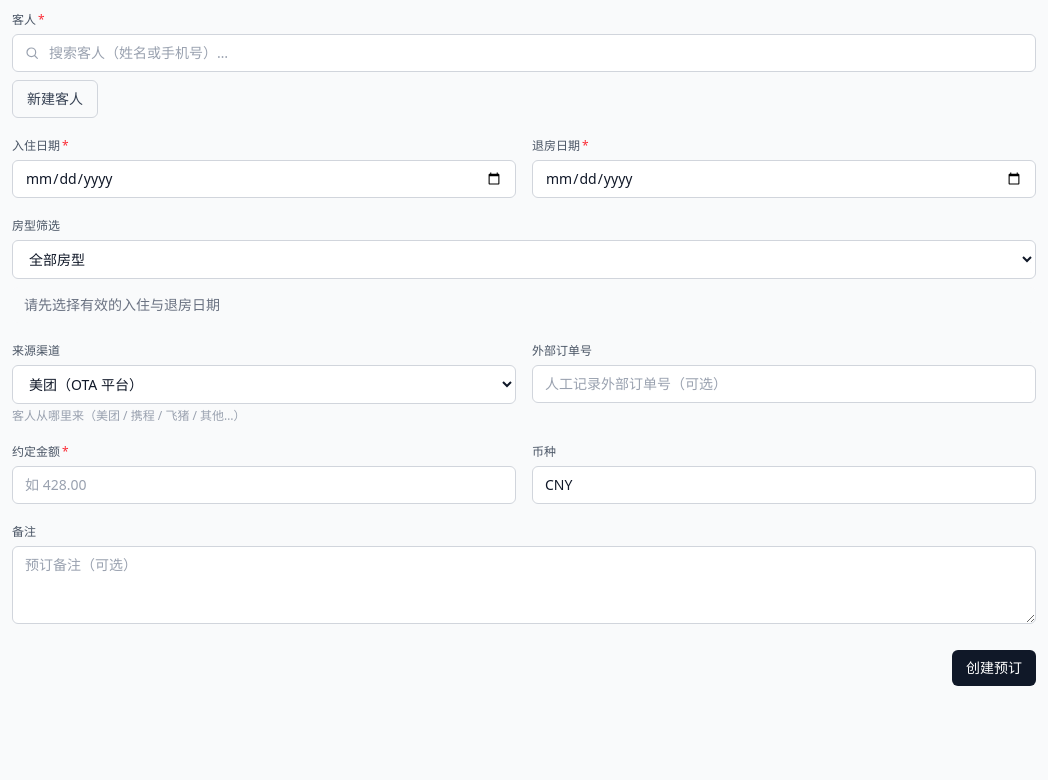
ReservationForm 创建 › 散客渠道：入住日期自动锁定今天（Property Business Date）
This screenshot has width=1048, height=780.
Select "散客（线下）" in the dropdown named "来源渠道" at (264, 384), box [12,365,516,404]
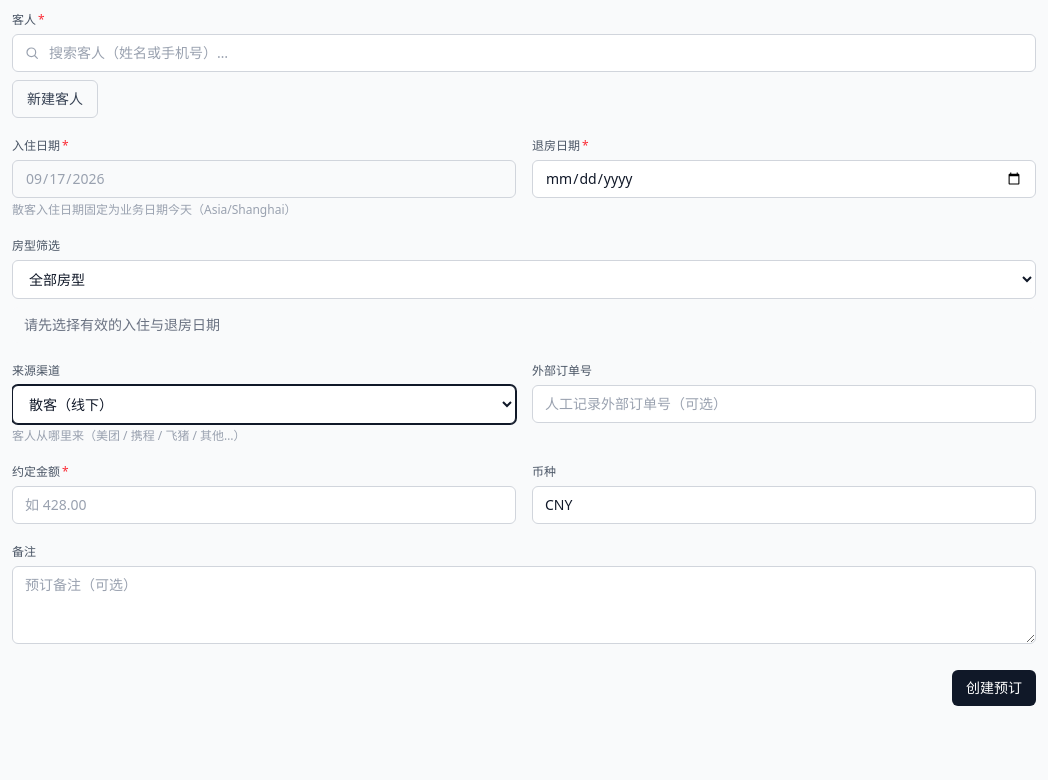
Result: the date field named "入住日期" is disabled at [12,160,516,198]
